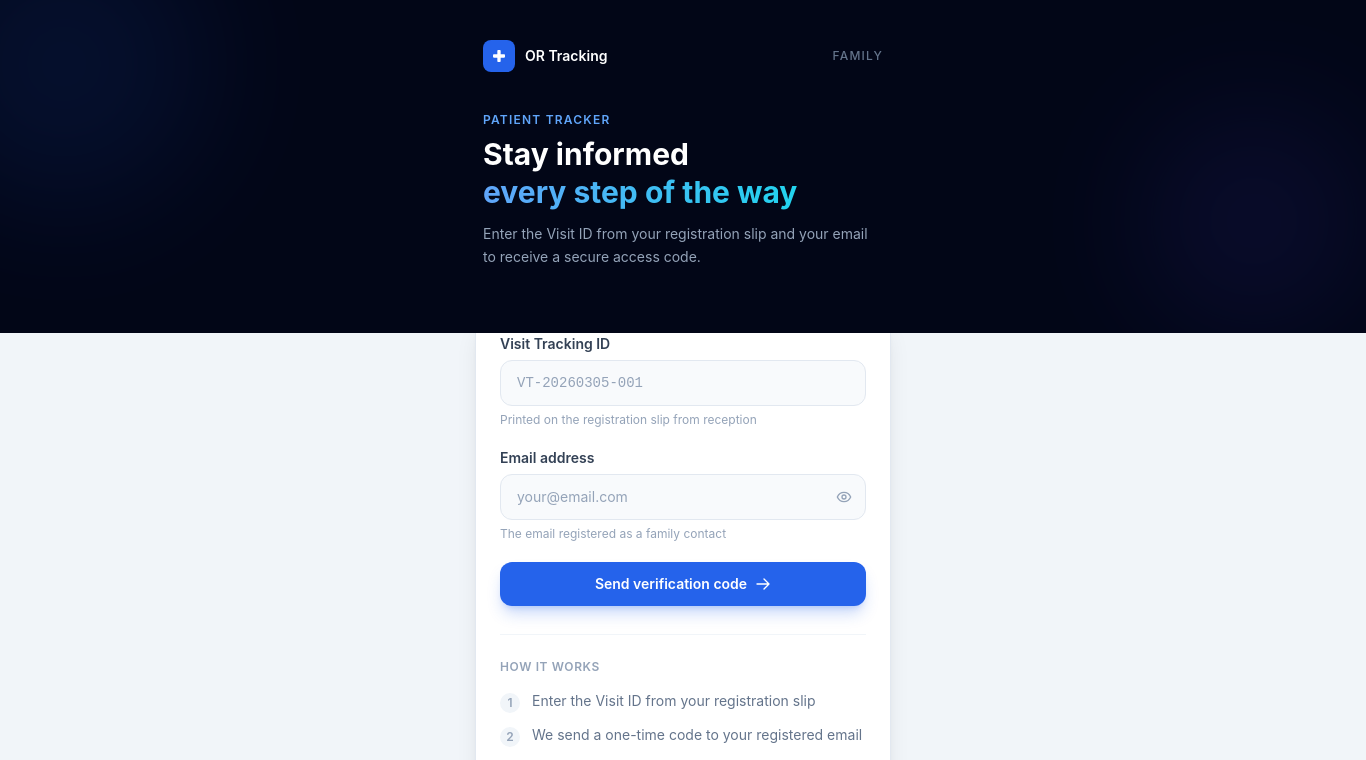
Test case: FamilyPortal › shows error when no family contact registered
Type "VT-20260404-001" into the field with placeholder "VT-20260305-001" at (683, 382), box top-left (500, 360), bottom-right (866, 406)
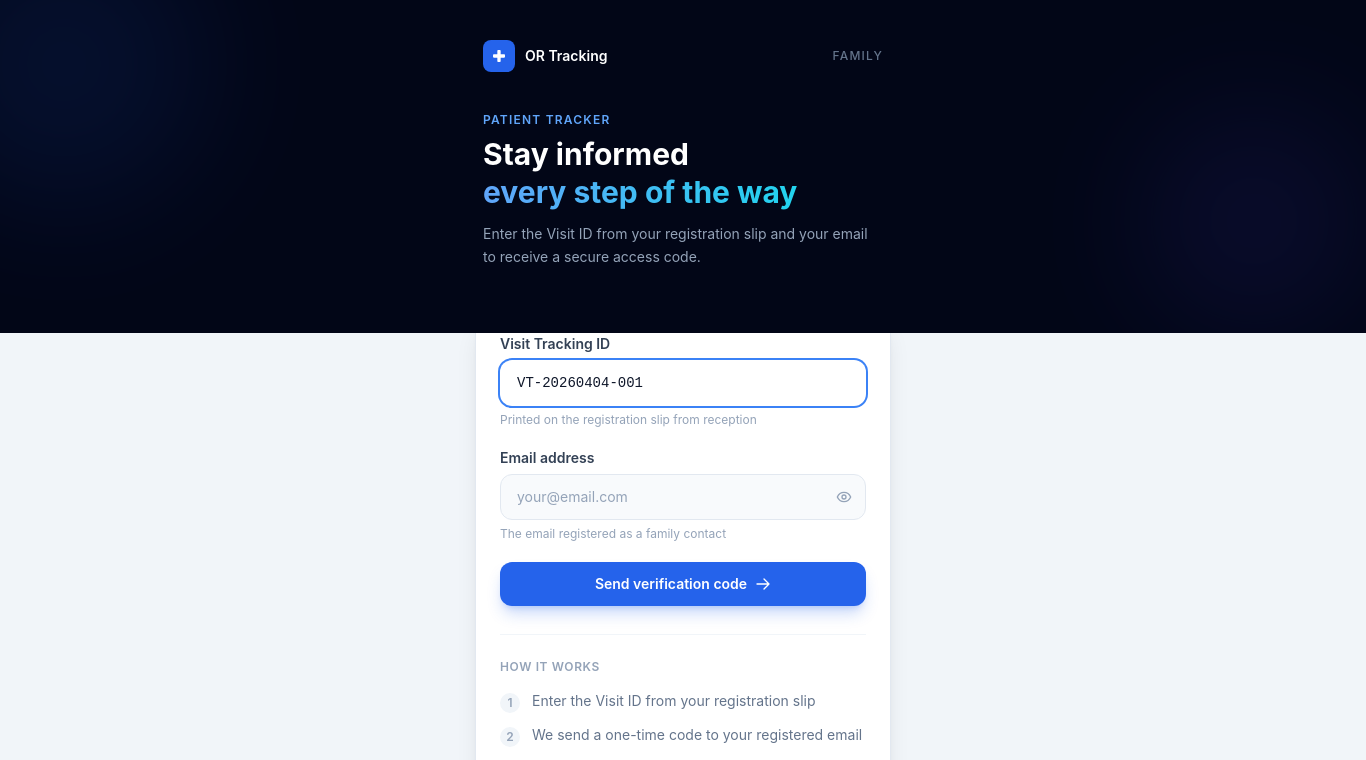
Click the button "Send verification code" at (683, 584), box top-left (500, 562), bottom-right (866, 606)
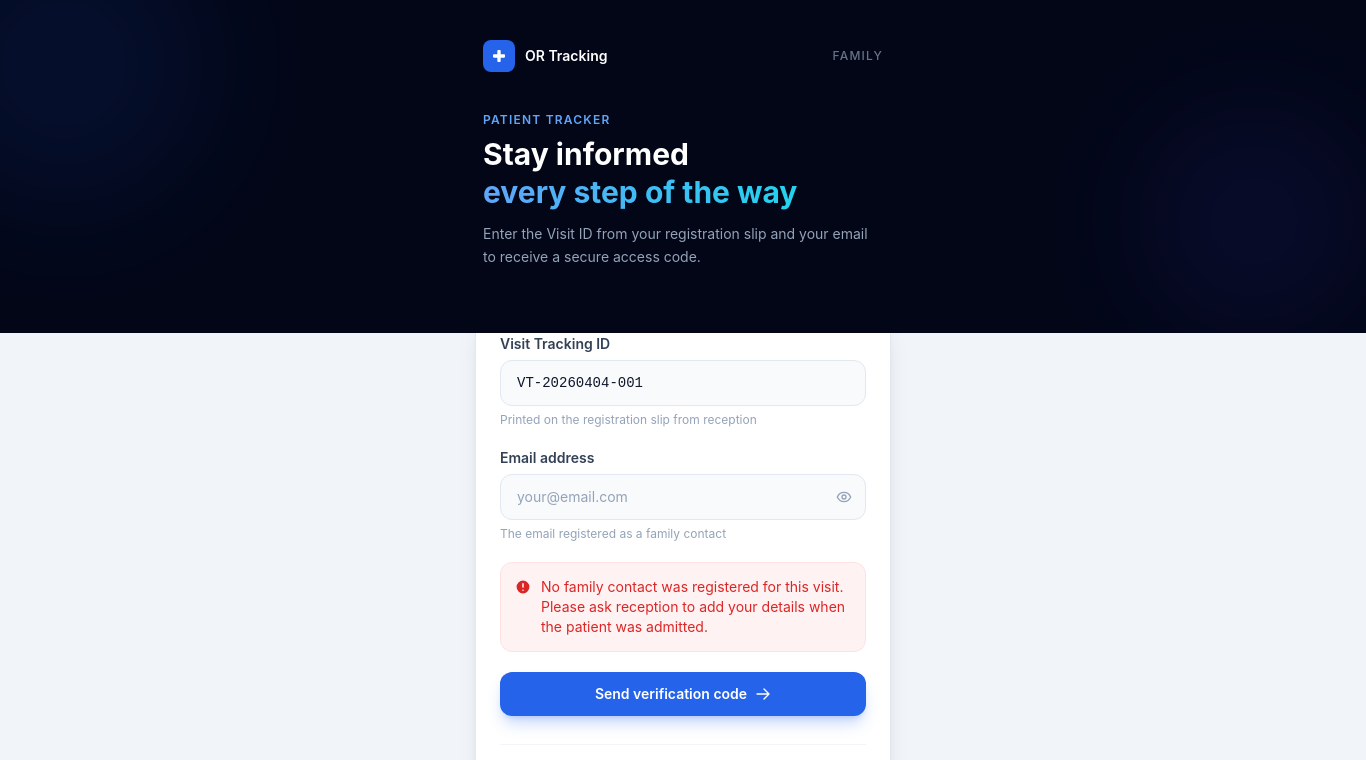
expect the text "No family contact was registered" is shown: met, box top-left (541, 578), bottom-right (845, 634)
